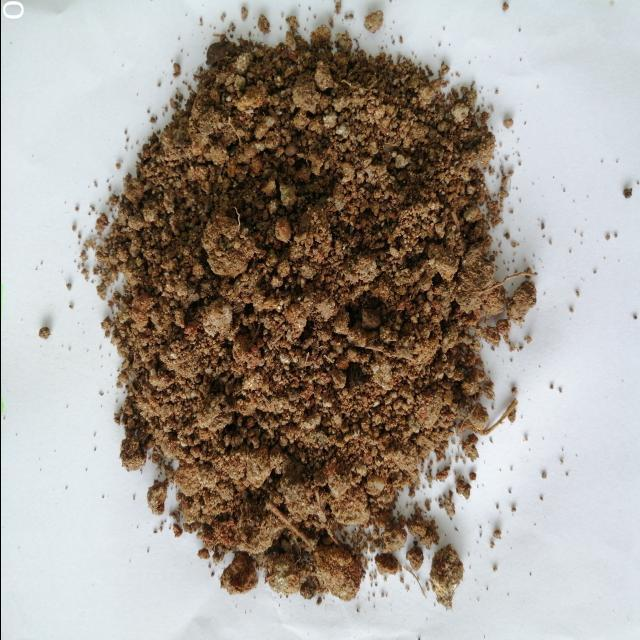soil: (166, 120, 416, 466)
